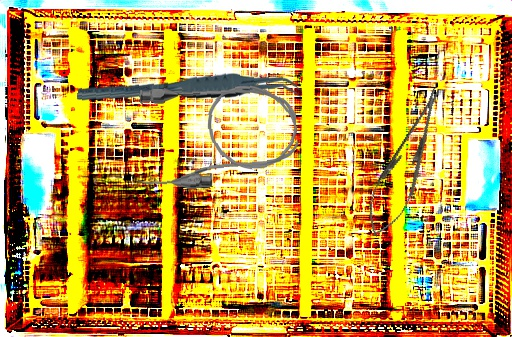Cannula: (130, 79, 301, 193)
Needle Holder: (356, 81, 456, 244)
Tissue Forceps: (76, 62, 303, 117)
